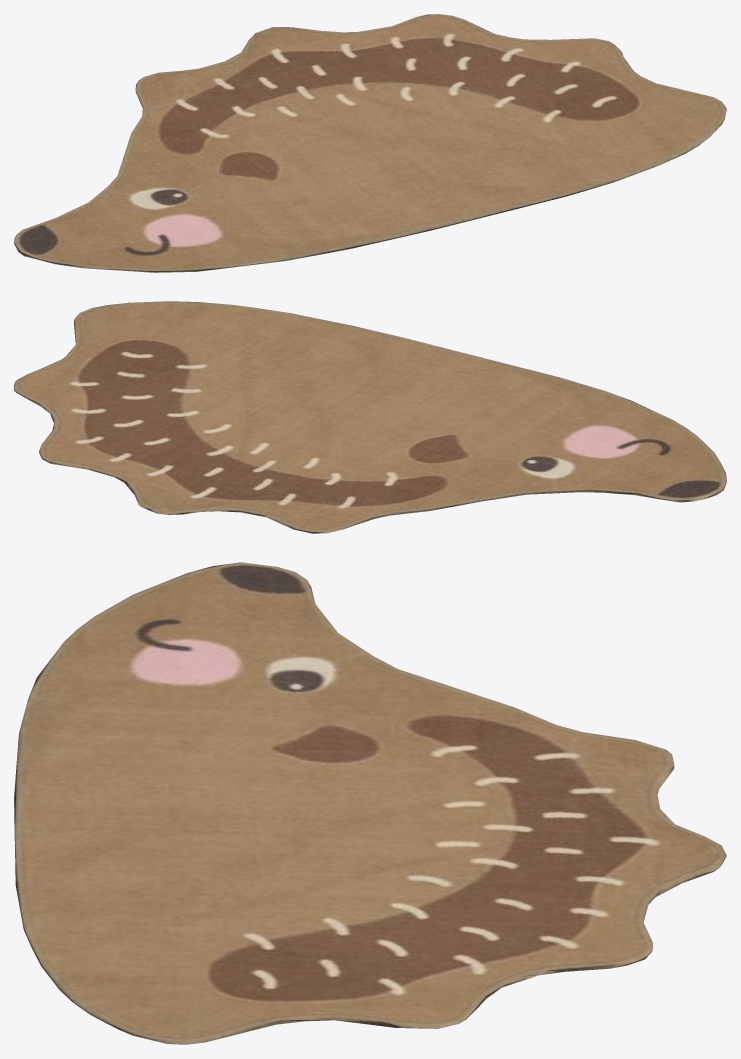
The model's file is 09 - BRUMMIG Rug - hedgehog shapedbrown 94x150 cm.glb.
3 renders of one model, top to bottom at view 1: azimuth 30°, elevation 25°; view 2: azimuth 150°, elevation 25°; view 3: azimuth 270°, elevation 25°, orthographic. The views are drawn at different scales.
Parts seen in each view (by area): view 1: ProcessedMeshNode; view 2: ProcessedMeshNode; view 3: ProcessedMeshNode.
Boxes of the visible parts, box(x1,y1,x2,y2) form: ProcessedMeshNode: box(14, 14, 726, 272); ProcessedMeshNode: box(14, 301, 726, 533); ProcessedMeshNode: box(14, 562, 726, 1044).
Bounding box in the file's own units: 1.51 × 0.00699 × 0.9505.
Materials: 1 (1 with a texture image).
